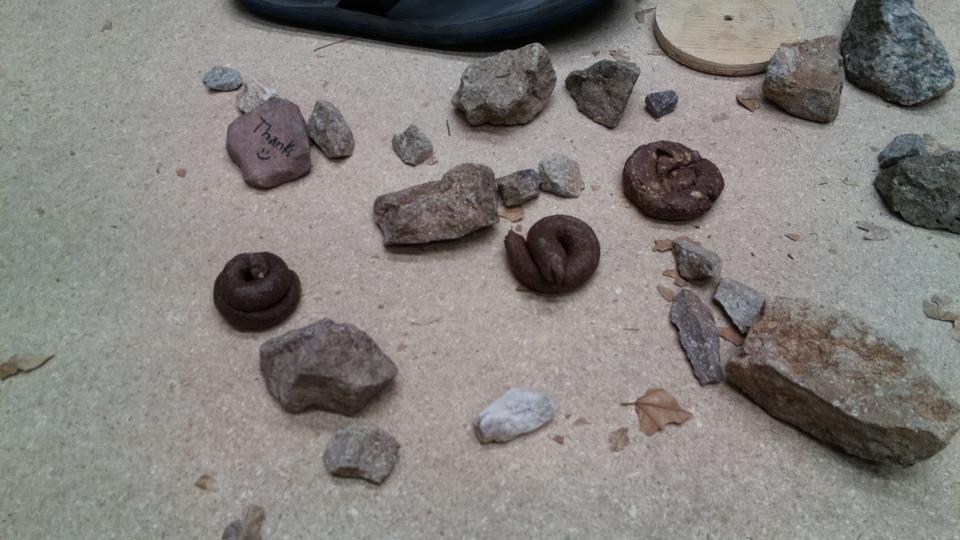poop: (621, 139, 727, 222), (502, 212, 602, 298), (211, 249, 302, 332)
